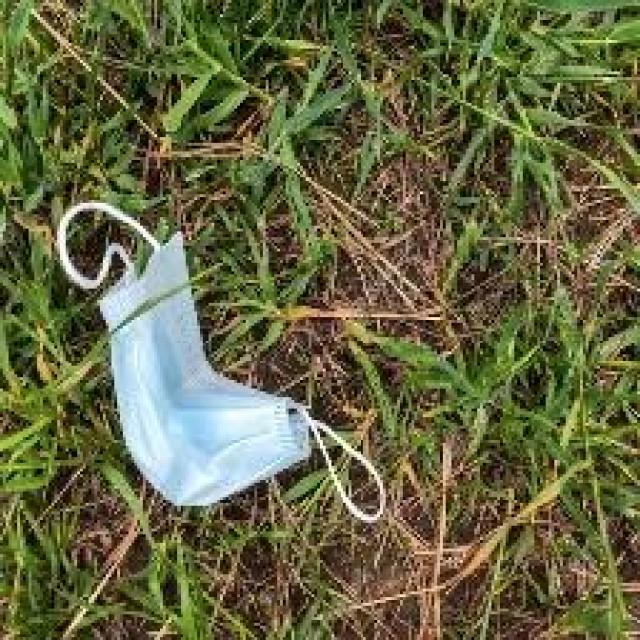Mask: (45, 199, 403, 542)
